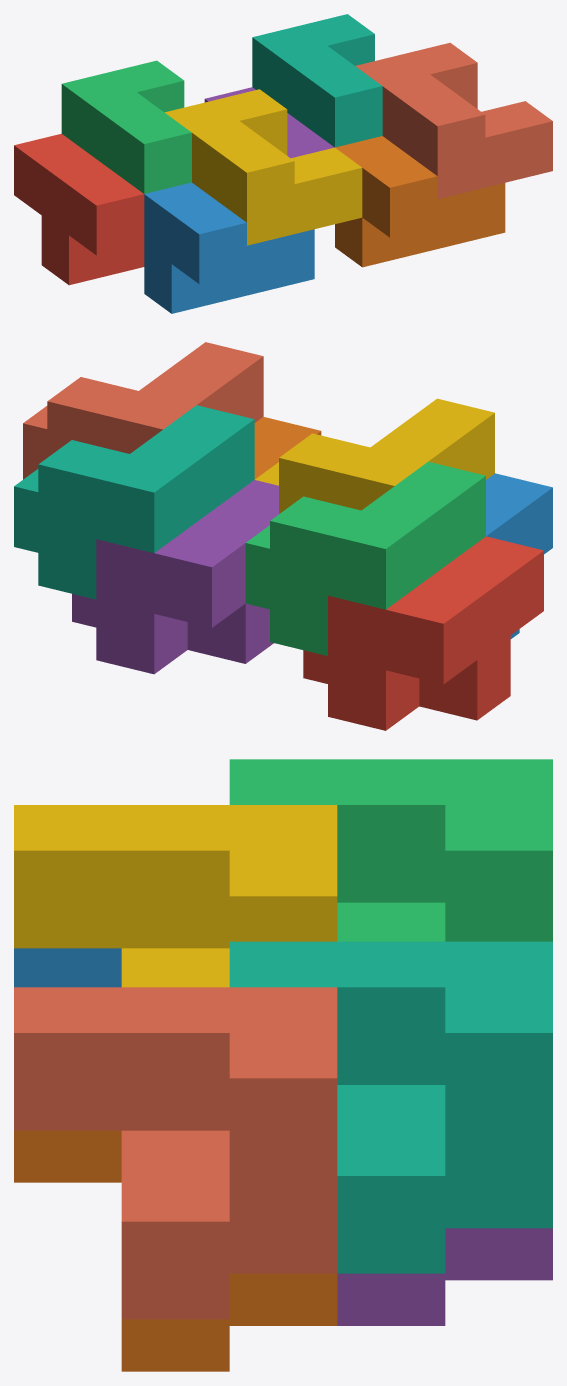
The model's file is tiling.obj.
3 views of the same model, one above another, from view 1: azimuth 30°, elevation 25°; view 2: azimuth 150°, elevation 25°; view 3: azimuth 270°, elevation 25° (orthographic). The views are drawn at different scales.
Parts seen in each view (by area): view 1: copy_1_domain_4, copy_1_domain_8, copy_1_domain_2, copy_1_domain_1, copy_1_domain_6, copy_1_domain_3, copy_1_domain_7, copy_1_domain_5; view 2: copy_1_domain_1, copy_1_domain_7, copy_1_domain_3, copy_1_domain_5, copy_1_domain_8, copy_1_domain_4, copy_1_domain_2, copy_1_domain_6; view 3: copy_1_domain_8, copy_1_domain_7, copy_1_domain_4, copy_1_domain_3, copy_1_domain_6, copy_1_domain_5, copy_1_domain_2.
Part boxes in pixels (x1,y1,x2,y2): copy_1_domain_4: [164, 89, 362, 245]; copy_1_domain_8: [355, 42, 552, 198]; copy_1_domain_2: [144, 182, 314, 313]; copy_1_domain_1: [14, 133, 144, 285]; copy_1_domain_6: [335, 136, 505, 267]; copy_1_domain_3: [61, 60, 191, 193]; copy_1_domain_7: [252, 14, 382, 147]; copy_1_domain_5: [204, 87, 334, 158]; copy_1_domain_1: [303, 536, 543, 730]; copy_1_domain_7: [14, 405, 254, 599]; copy_1_domain_3: [245, 461, 485, 655]; copy_1_domain_5: [72, 480, 278, 674]; copy_1_domain_8: [23, 342, 263, 479]; copy_1_domain_4: [255, 398, 494, 513]; copy_1_domain_2: [486, 473, 552, 638]; copy_1_domain_6: [254, 417, 321, 479]; copy_1_domain_8: [14, 987, 337, 1319]; copy_1_domain_7: [229, 941, 552, 1273]; copy_1_domain_4: [14, 805, 337, 987]; copy_1_domain_3: [229, 759, 552, 941]; copy_1_domain_6: [14, 1130, 337, 1371]; copy_1_domain_5: [337, 1228, 552, 1325]; copy_1_domain_2: [14, 948, 121, 987].
Bounding box in the file's own units: 9 × 3 × 5.
